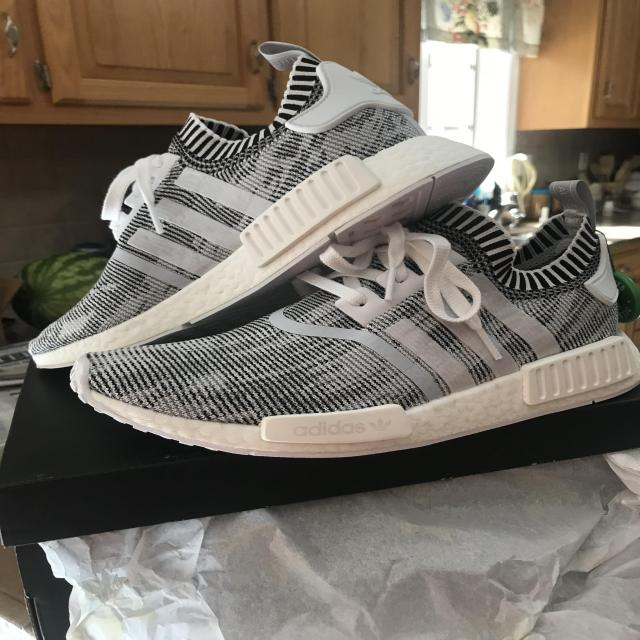shoe: (43, 128, 640, 532), (0, 6, 443, 394)
